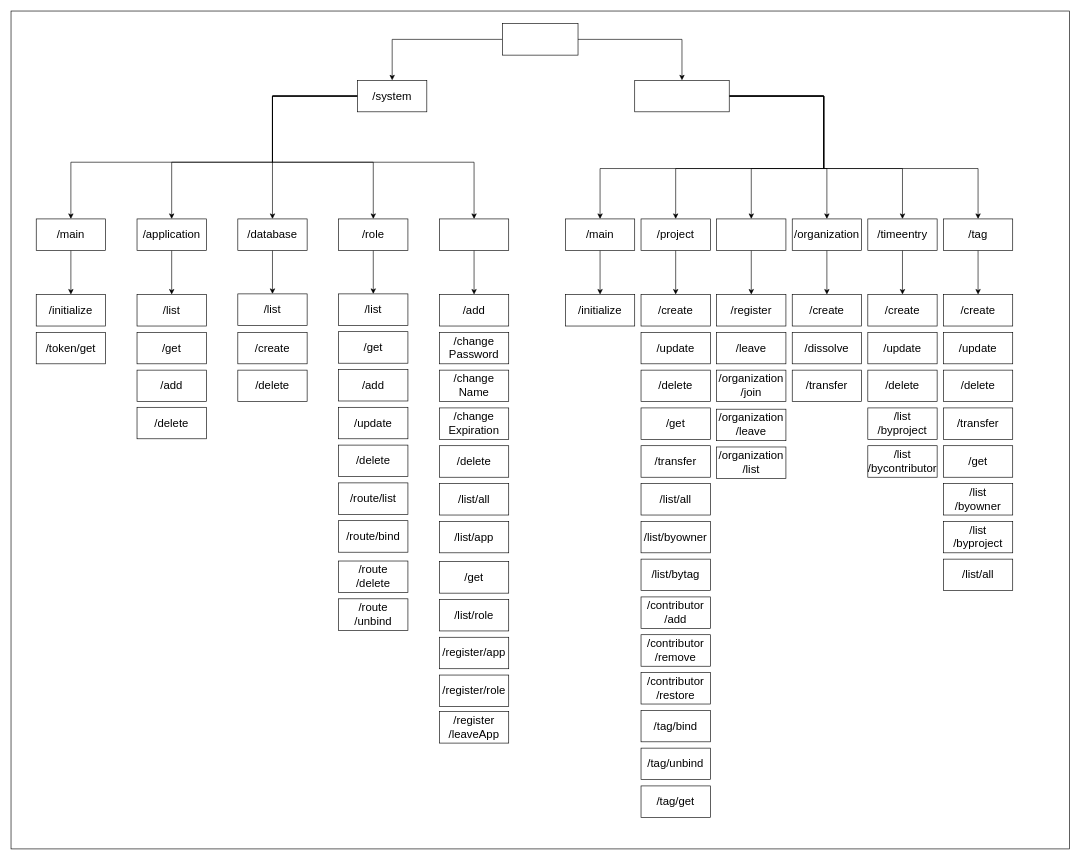
The diagram is 1080 pixels wide and 860 high, and some of its shapes have lost their labels. The shapes that lost their labels are listed below. From the top down, each one's centre as x and y in pixels, then its label:
At (x=540, y=39): "API".
At (x=681, y=96): "/projectmanager".
At (x=474, y=234): "/user".
At (x=751, y=234): "/contributor".
